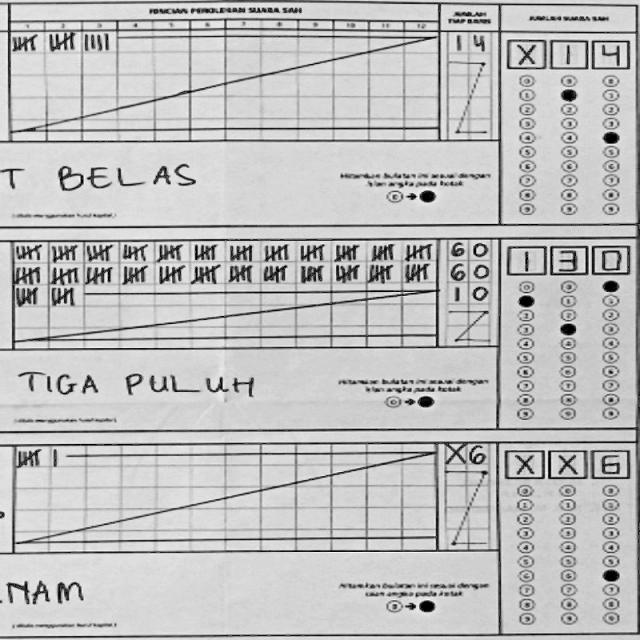Suara: (506, 32, 630, 74), (499, 442, 634, 478), (504, 241, 634, 277)
